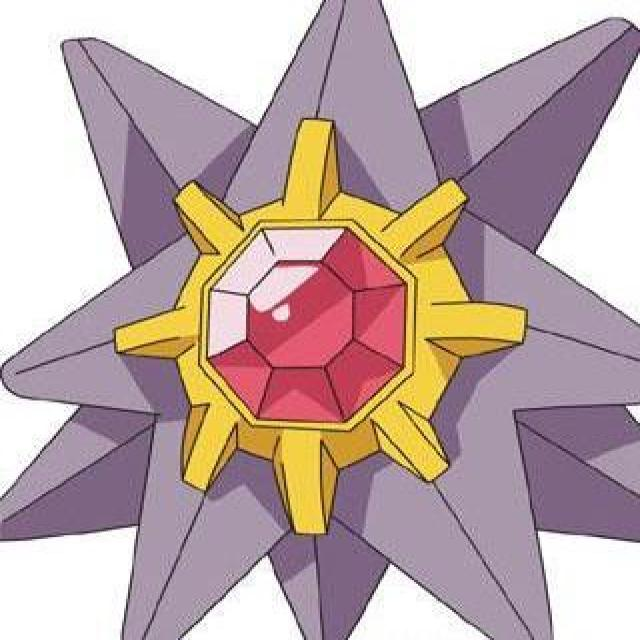Starmie: (56, 31, 640, 640)
